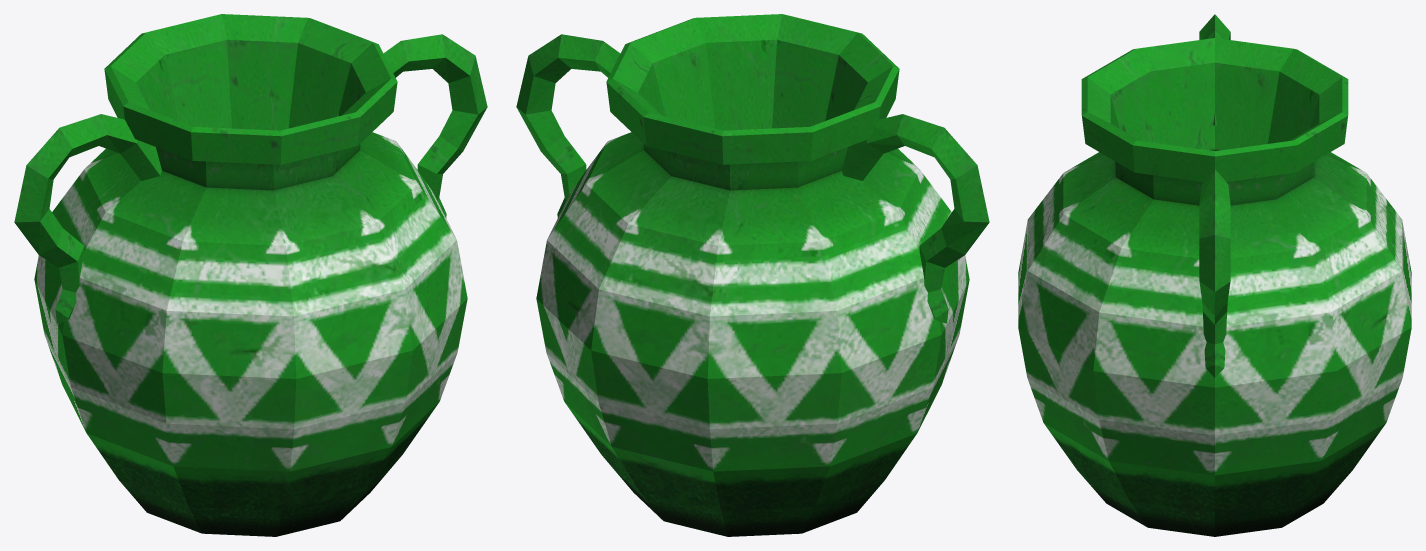
Rendered from Green_Pot_260.obj.
The picture shows the model from 3 angles, left to right: view 1: azimuth 30°, elevation 25°; view 2: azimuth 150°, elevation 25°; view 3: azimuth 270°, elevation 25°; orthographic projection. The views are drawn at different scales.
Visible parts, largest first — view 1: Green_Pot_260_260; view 2: Green_Pot_260_260; view 3: Green_Pot_260_260.
Part boxes in pixels (x1=…): Green_Pot_260_260: x1=14, y1=14, x2=487, y2=536; Green_Pot_260_260: x1=516, y1=14, x2=989, y2=536; Green_Pot_260_260: x1=1018, y1=14, x2=1411, y2=536.
Size of the model in its own units: 0.4015 by 0.3364 by 0.3044.
Materials: 1 (1 with a texture image).
